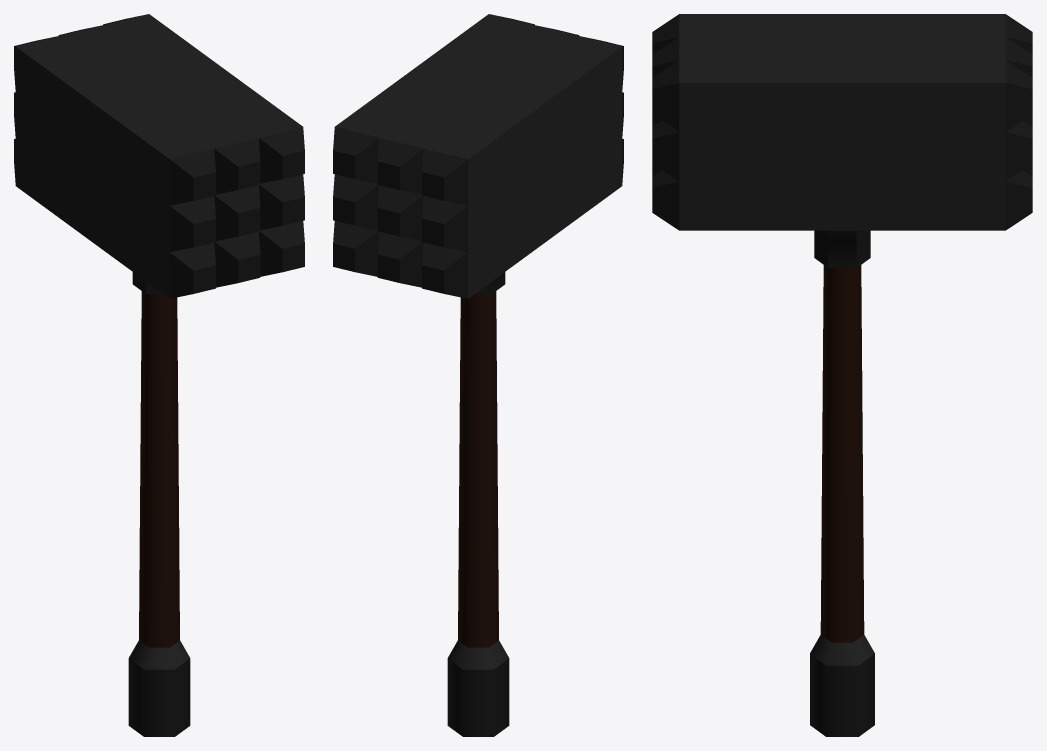
File: warhammer.obj
3 renders of one model, left to right at view 1: azimuth 30°, elevation 25°; view 2: azimuth 150°, elevation 25°; view 3: azimuth 270°, elevation 25°, orthographic. The views are drawn at different scales.
Parts seen in each view (by area): view 1: meatTenderizer.001; view 2: meatTenderizer.001; view 3: meatTenderizer.001.
Boxes of the visible parts, bbox=[...] form: meatTenderizer.001: bbox=[14, 14, 304, 736]; meatTenderizer.001: bbox=[333, 14, 623, 736]; meatTenderizer.001: bbox=[652, 14, 1032, 736].
Bounding box in the file's own units: 0.3426 × 1.57 × 0.7995.
